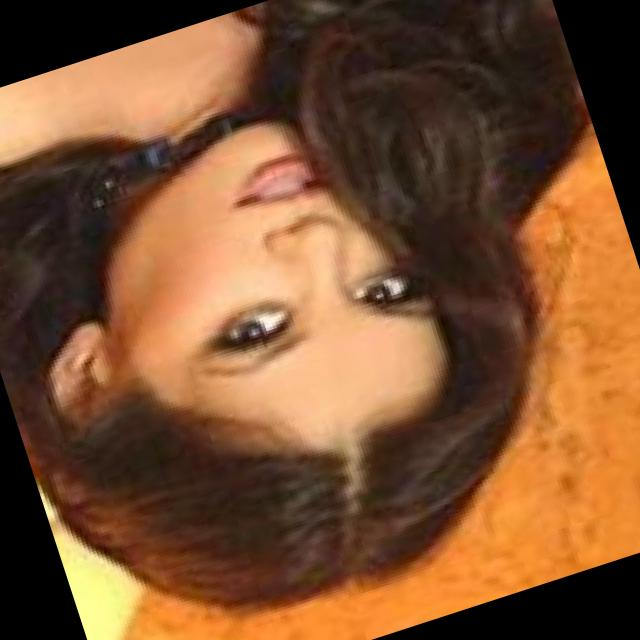bareface: (0, 66, 591, 640)
